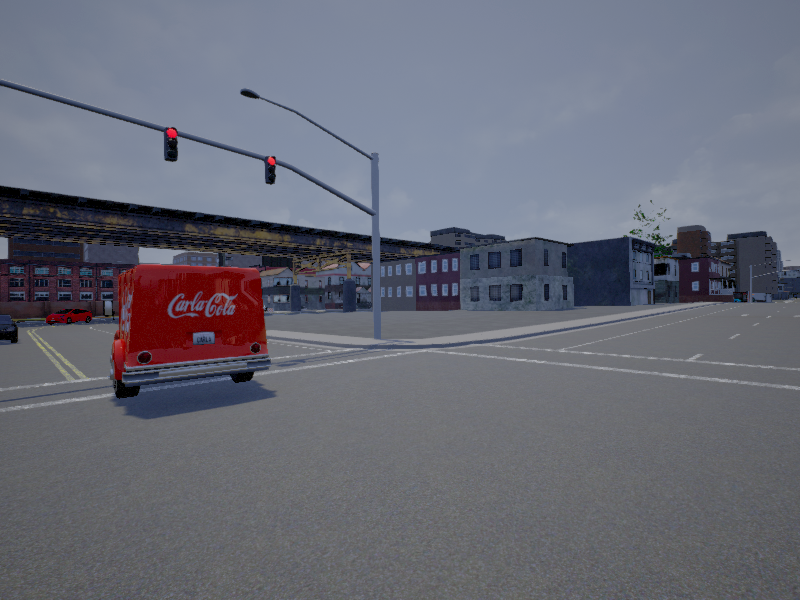Benign: (110, 266, 263, 400), (46, 309, 95, 324)
